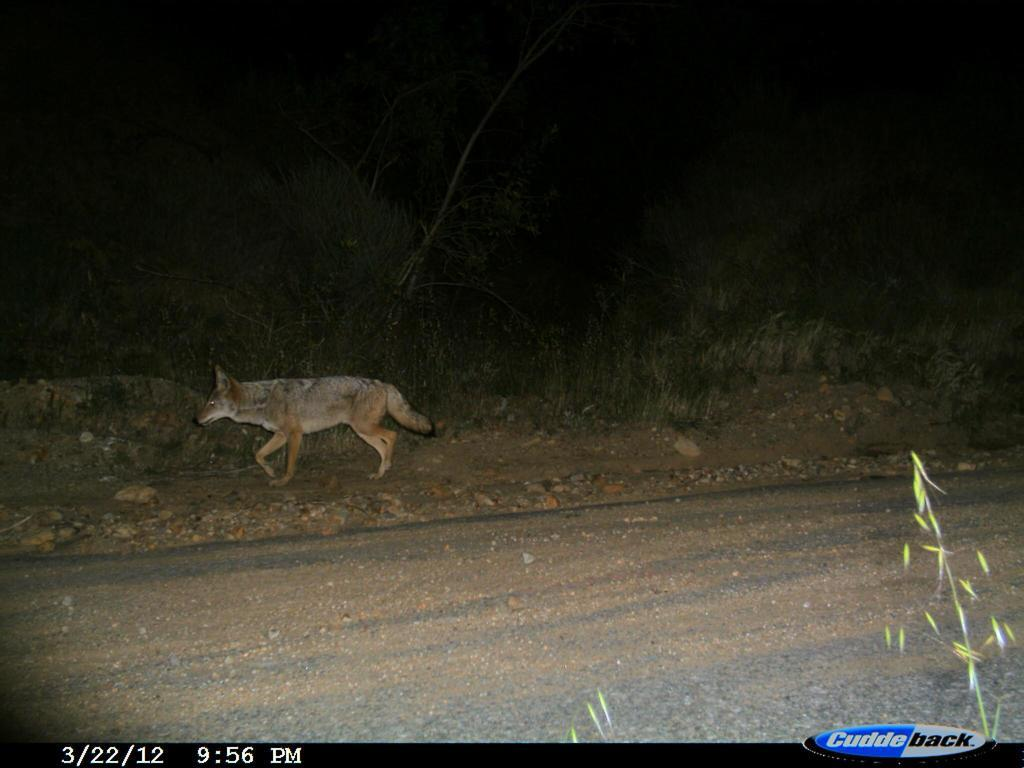coyote: (185, 350, 446, 487)
